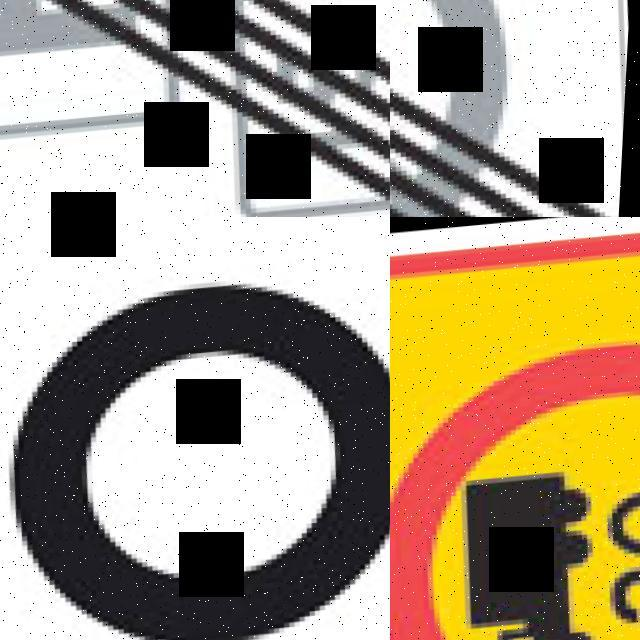111: (0, 0, 390, 217), (390, 0, 640, 217)
68: (0, 217, 390, 640)
No vehicles exceeding length shown: (390, 217, 640, 640)
